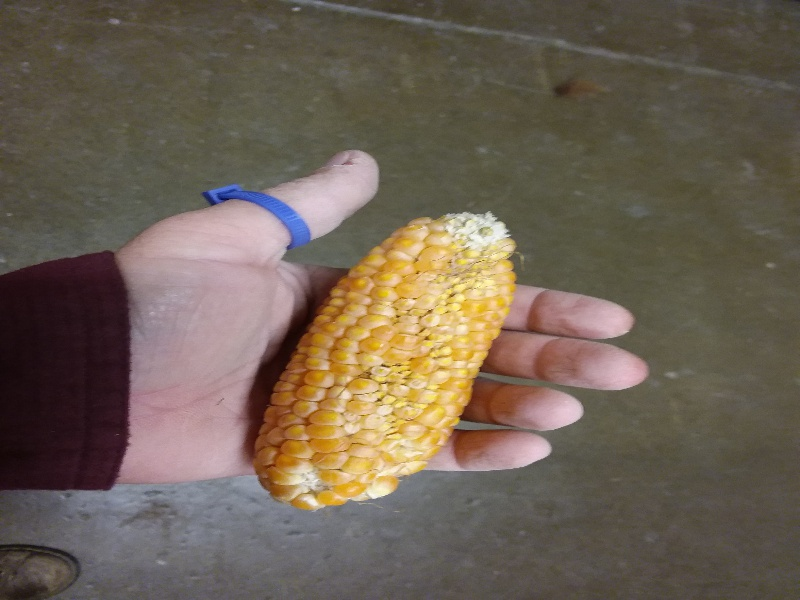band: (201, 180, 316, 249)
ear: (250, 206, 520, 515)
